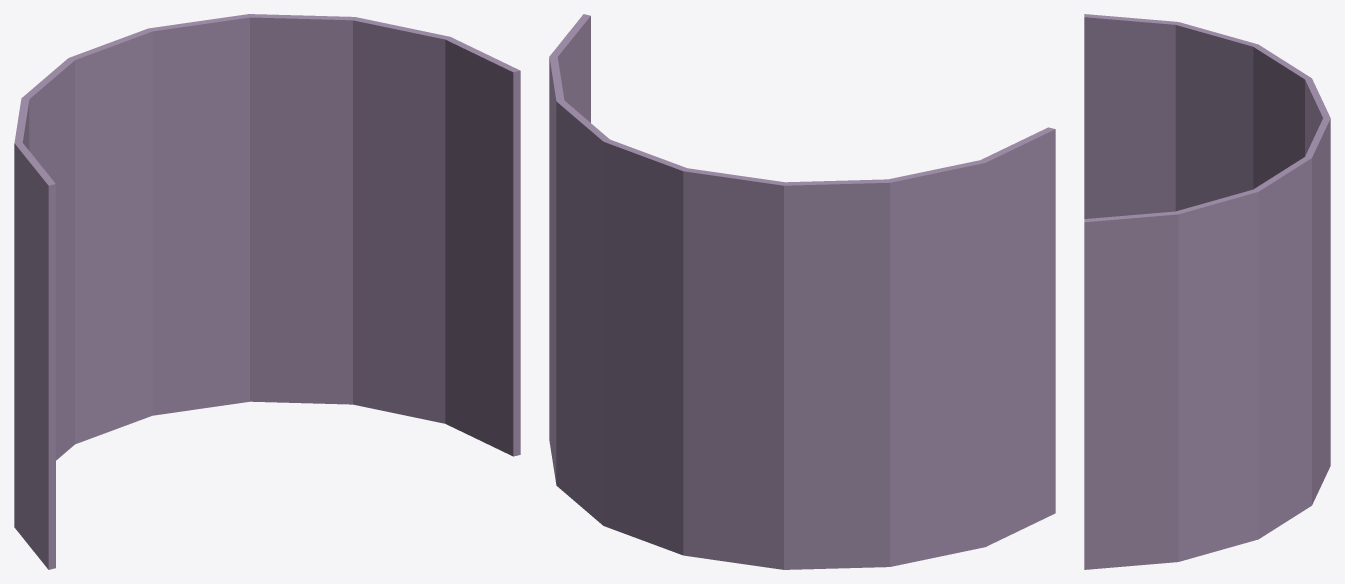
The picture shows the model from 3 angles, left to right: view 1: azimuth 30°, elevation 25°; view 2: azimuth 150°, elevation 25°; view 3: azimuth 270°, elevation 25°; orthographic projection. The views are drawn at different scales.
Parts seen in each view (by area): view 1: 高岸端盖_岸壁.001; view 2: 高岸端盖_岸壁.001; view 3: 高岸端盖_岸壁.001.
Part boxes in pixels (<box>): 高岸端盖_岸壁.001: <box>14,14,520,569</box>; 高岸端盖_岸壁.001: <box>549,14,1055,569</box>; 高岸端盖_岸壁.001: <box>1084,14,1330,569</box>.
Bounding box in the file's own units: 0.784 × 0.61 × 0.392.
